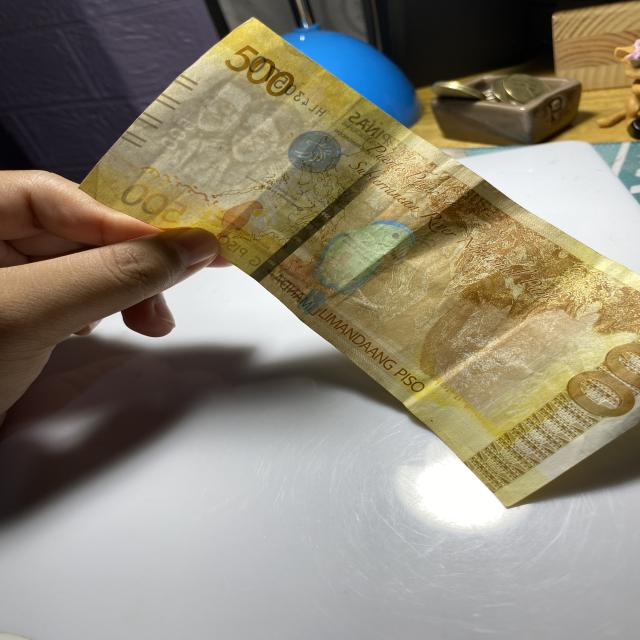500_big_parrot: (295, 219, 410, 314)
500_parrot_watermark: (208, 198, 260, 239)
value_watermark: (158, 115, 194, 149)
watermark: (161, 82, 310, 184)
